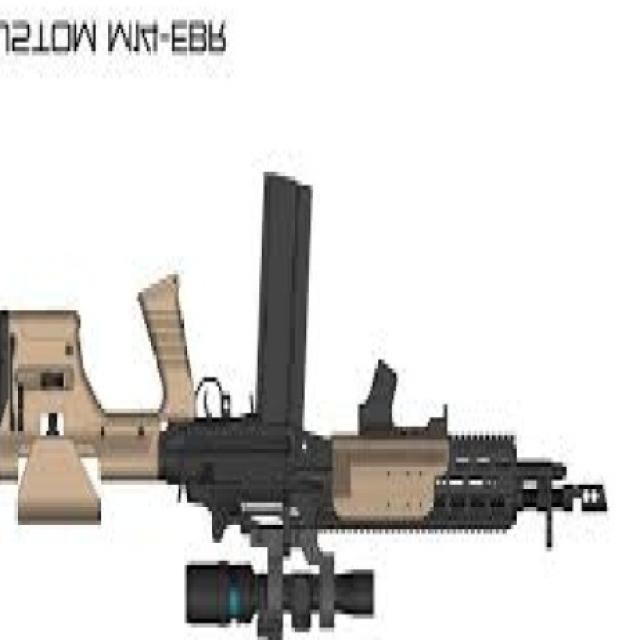Gun: (0, 176, 625, 640)
